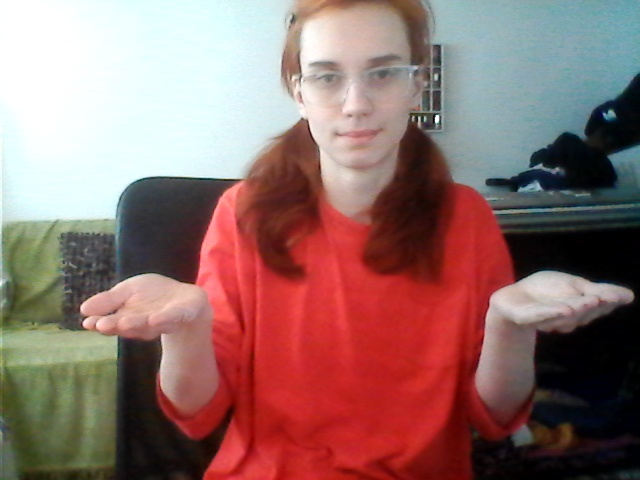alebo: (77, 265, 638, 363)
